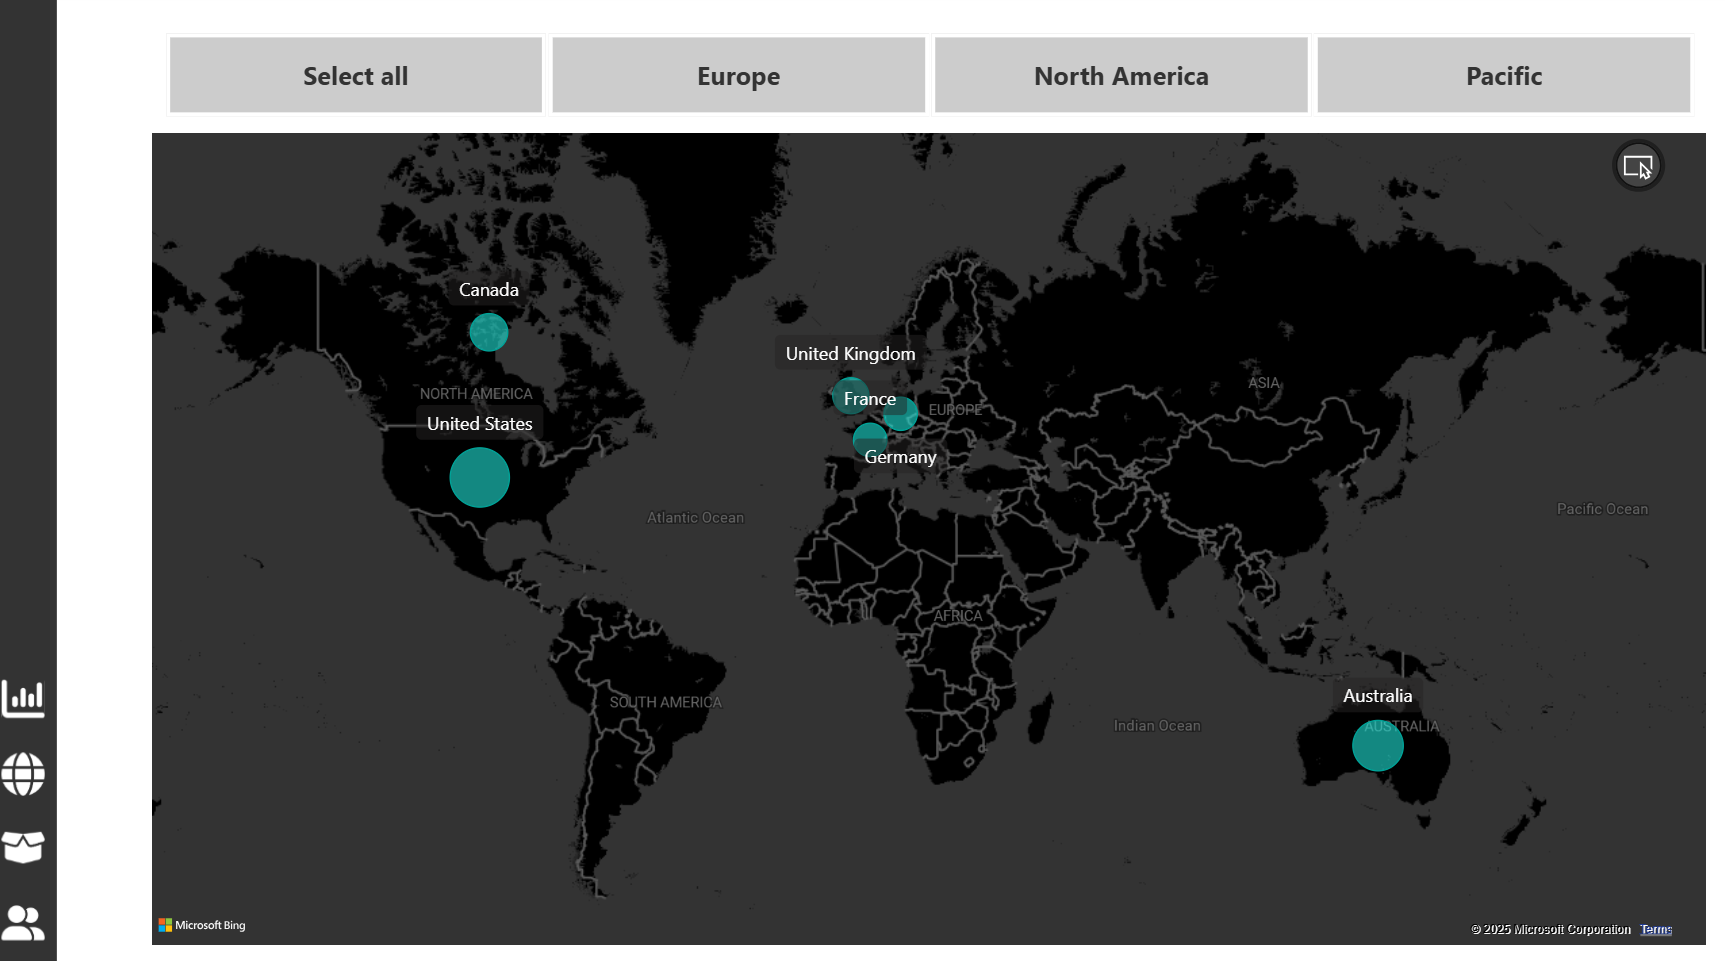

What the dashboard file says about the page in this screenshot:
{"tool":"powerbi","page":{"name":"Map","canvas":[1280,720],"ordinal":1},"visuals":[{"type":"shape","box":[0,1,45,719],"z":0},{"type":"map","fields":{"Category":["Territory Lookup.Country"],"Size":["Measure Table.Total Orders"]},"box":[110,99.6,1159.4,610.8],"z":1000},{"type":"actionButton","box":[0,503.4,45.3,40.1],"z":2000},{"type":"slicer","fields":{"Values":["Territory Lookup.Continent"]},"box":[99.6,24.6,1180.1,75.1],"z":3000},{"type":"actionButton","box":[0,558.6,45.3,40.1],"z":4000},{"type":"actionButton","box":[0,613.8,45.3,40.1],"z":5000},{"type":"actionButton","box":[0,669,45.3,40.1],"z":6000}]}

Visuals, with their boxes on the page's 1280x720 design canvas (x1, y1, x2, y2). These are canvas units, not pixel positions in the 1725x961 screenshot, which may show the page scaled, cropped or inside an application window:
shape: (left=0, top=1, right=45, bottom=720)
map - Territory Lookup.Country x Measure Table.Total Orders: (left=110, top=100, right=1269, bottom=710)
actionButton: (left=0, top=503, right=45, bottom=544)
slicer - Territory Lookup.Continent: (left=100, top=25, right=1280, bottom=100)
actionButton: (left=0, top=559, right=45, bottom=599)
actionButton: (left=0, top=614, right=45, bottom=654)
actionButton: (left=0, top=669, right=45, bottom=709)
